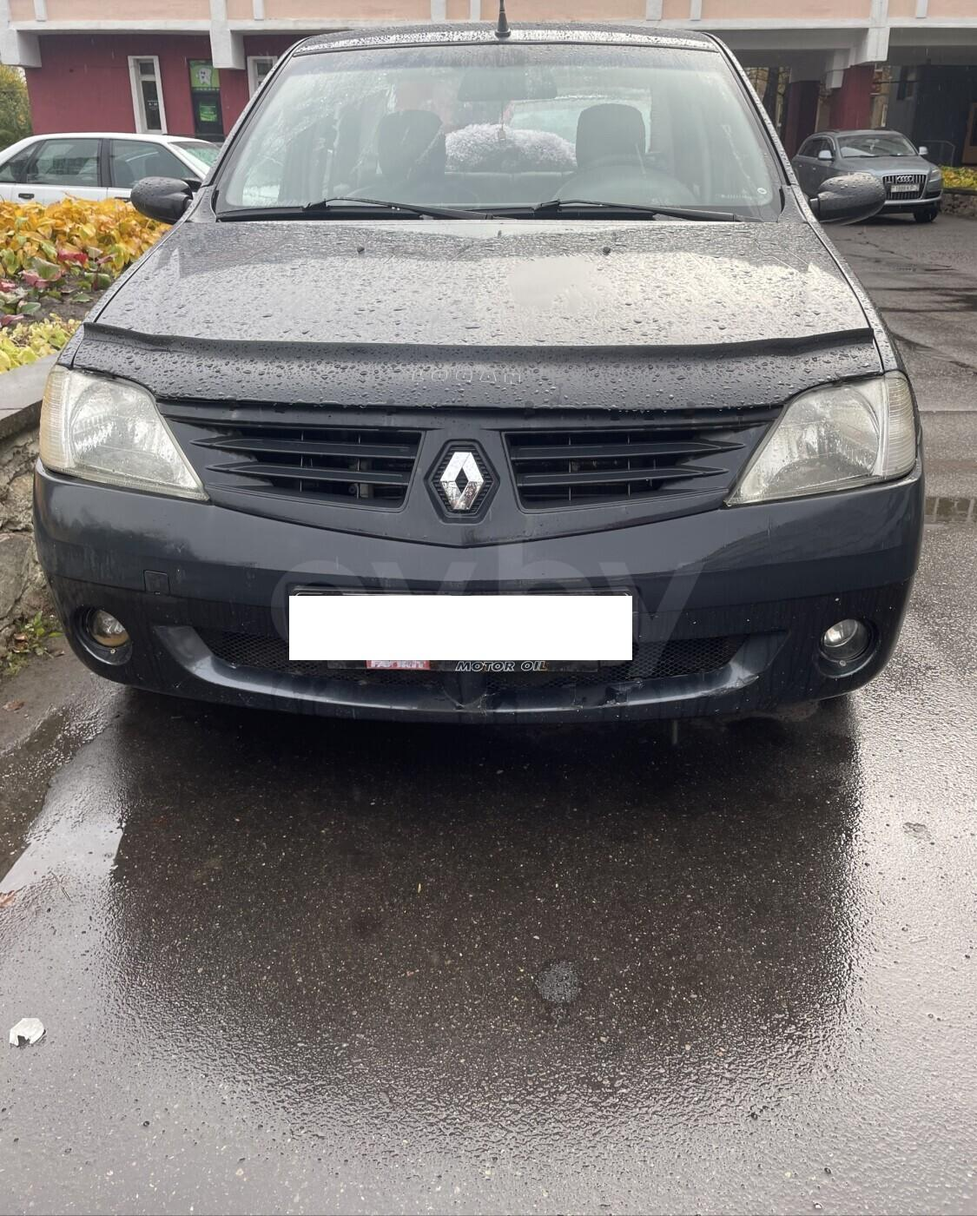Logan_2004-2009: (19, 23, 927, 737)
